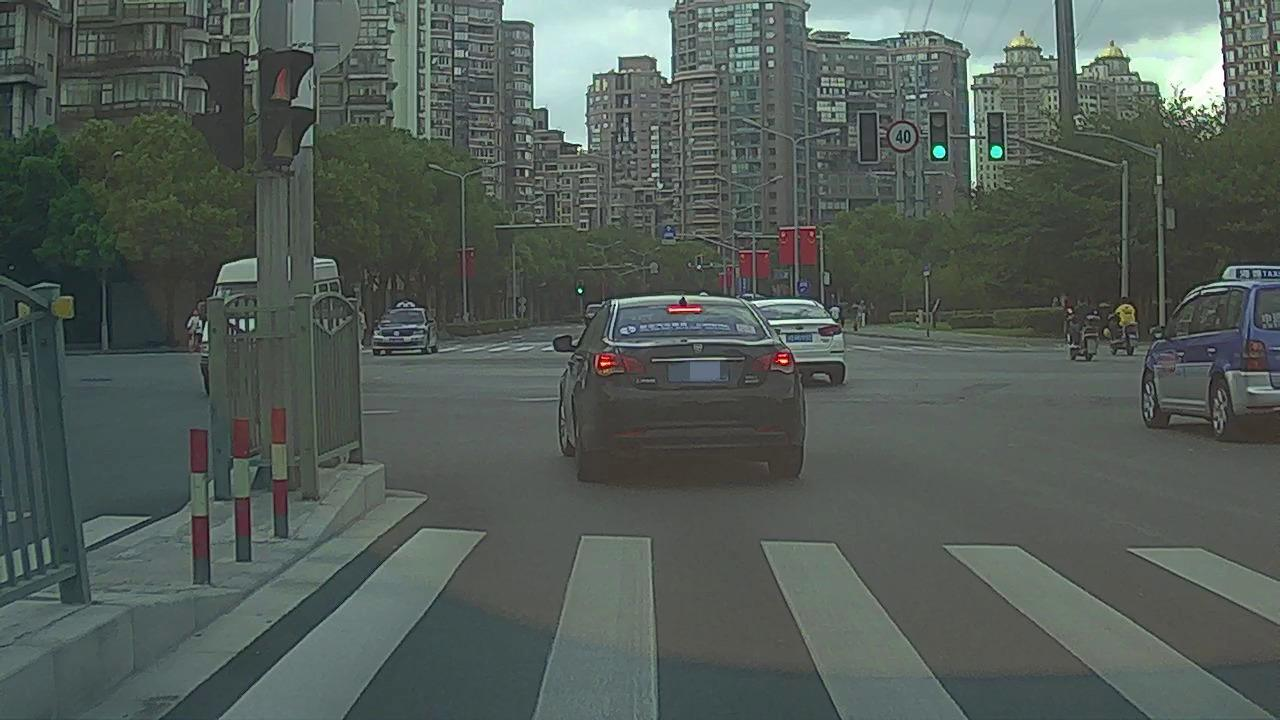traffic_light: (858, 113, 878, 163), (988, 113, 1007, 161), (931, 111, 947, 160)
